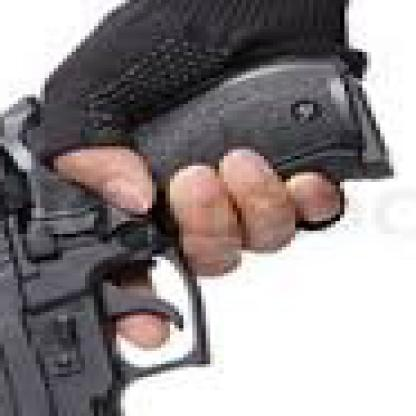gun: (0, 49, 398, 413)
